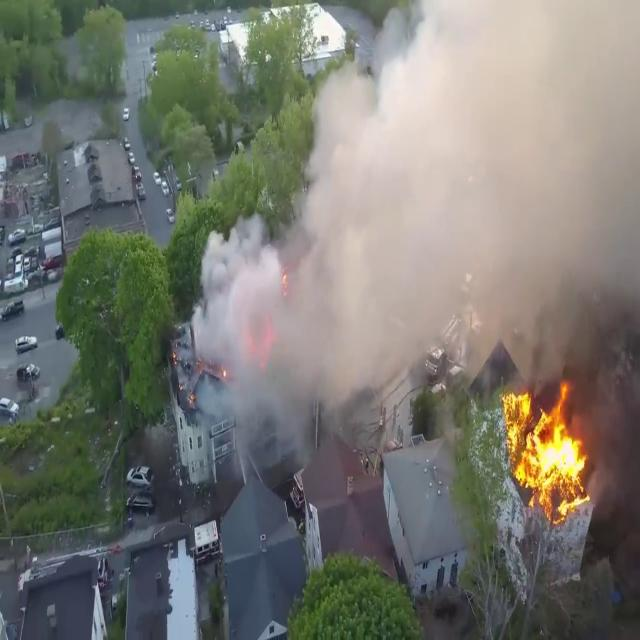Fire: (496, 369, 594, 516)
Smoke: (194, 0, 639, 452)
